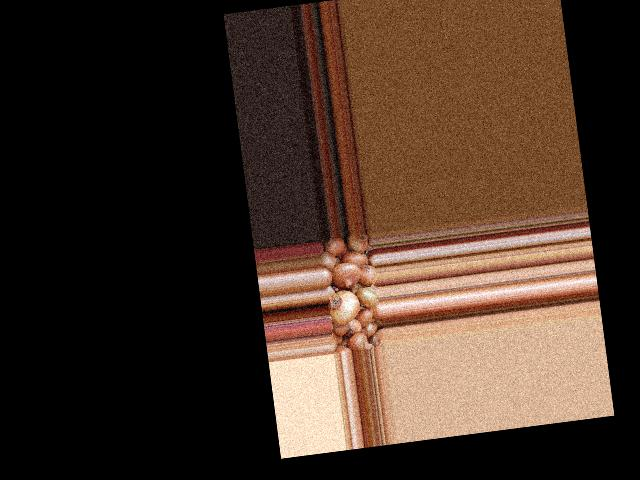onion: (346, 233, 368, 253)
